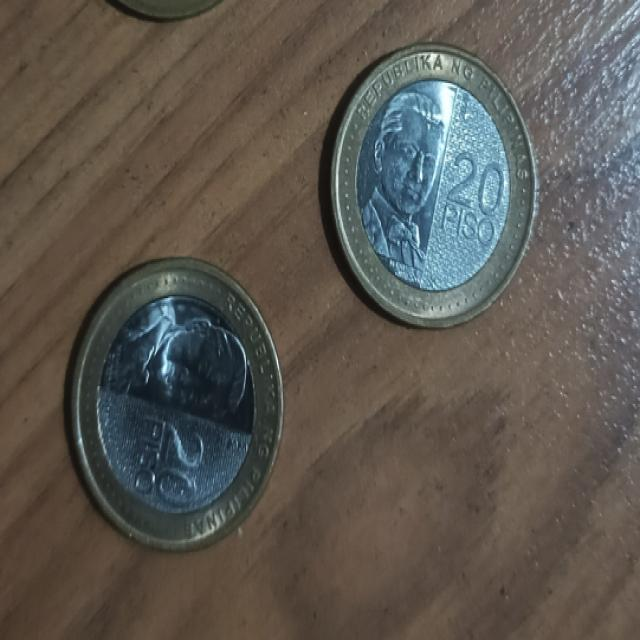20_peso: (71, 261, 280, 549), (332, 46, 536, 326)
